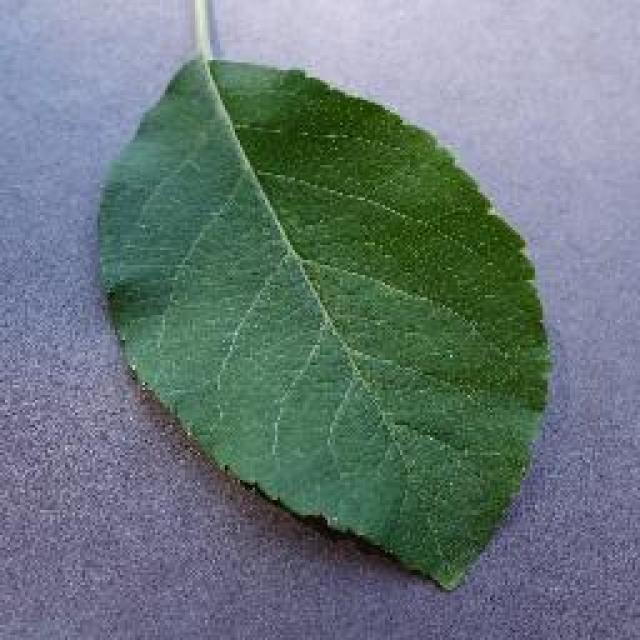apple healthy: (93, 48, 555, 592)
